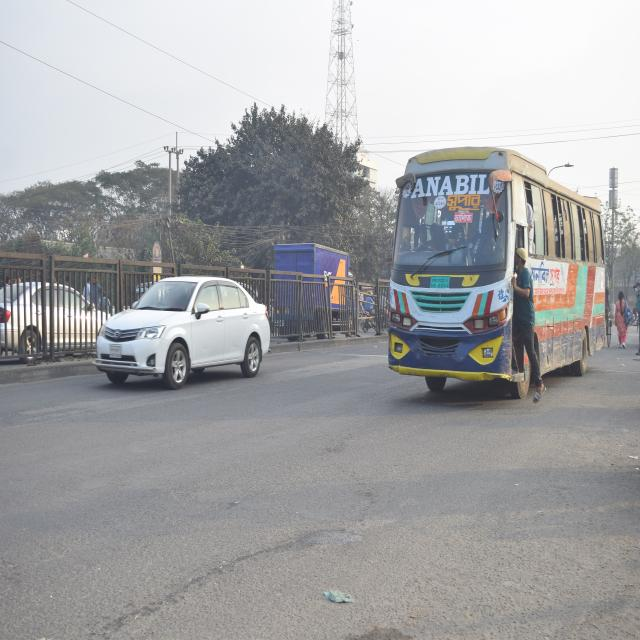bus: (385, 149, 607, 382)
car: (92, 277, 268, 388), (0, 268, 101, 368)
pickup-van: (274, 234, 350, 327)
